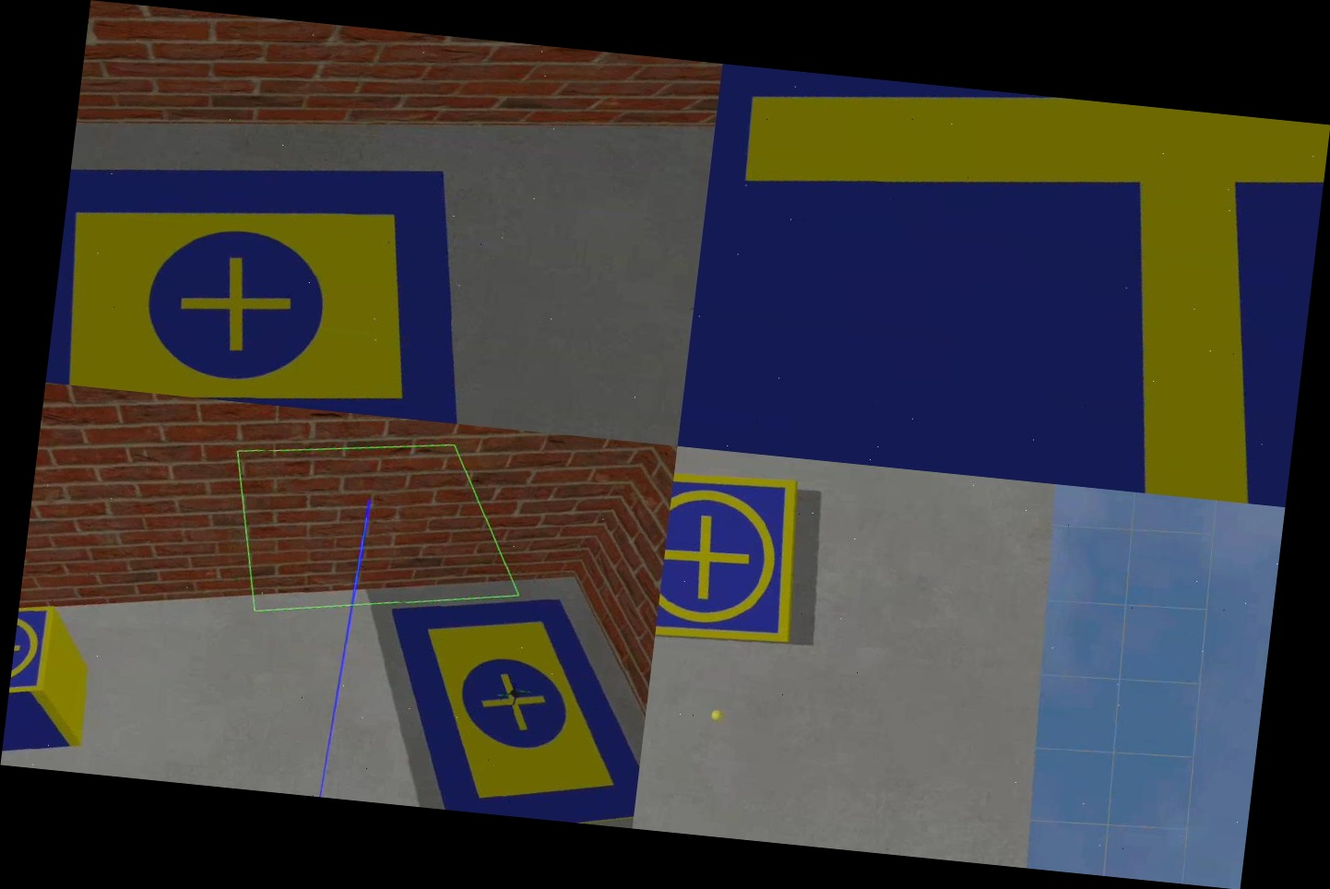large_base: (45, 135, 491, 424), (367, 579, 659, 828)
small_base: (677, 64, 1329, 507), (654, 465, 813, 655), (7, 604, 54, 712)
